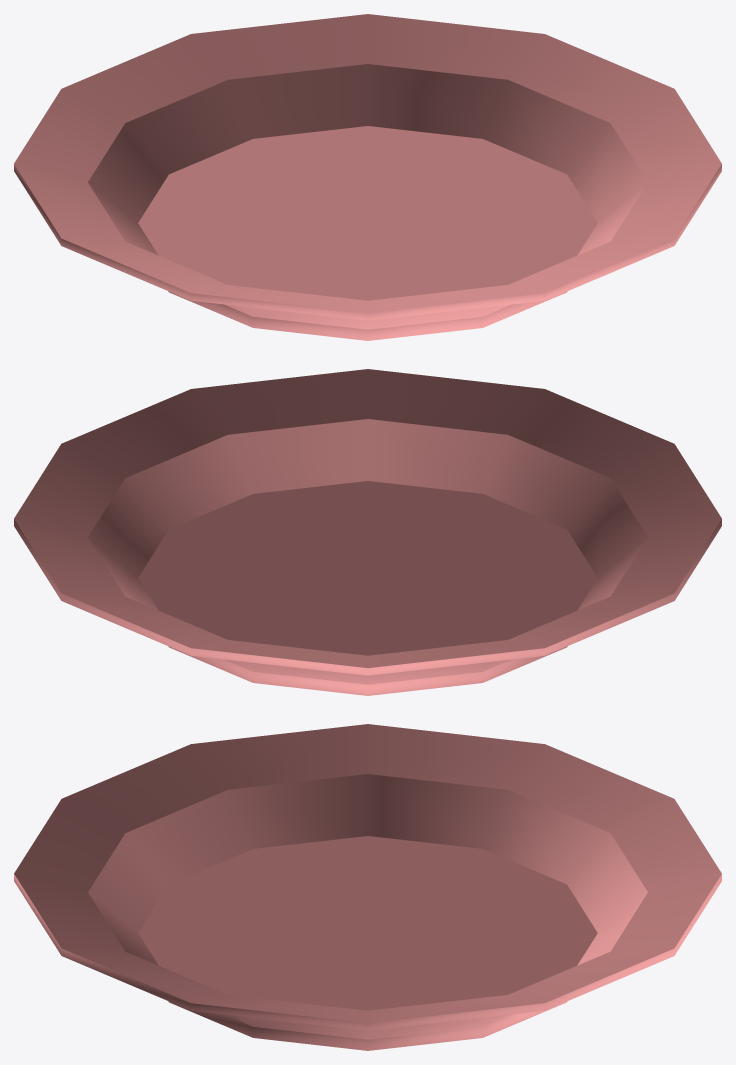
File: TFYK_soup_plate.FBX
3 views of the same model, one above another, from view 1: azimuth 30°, elevation 25°; view 2: azimuth 150°, elevation 25°; view 3: azimuth 270°, elevation 25° (orthographic).
Parts seen in each view (by area): view 1: TFYK_soup_plate; view 2: TFYK_soup_plate; view 3: TFYK_soup_plate.
Boxes of the visible parts, x1,y1,x2,y2 form: TFYK_soup_plate: (14, 14, 721, 340); TFYK_soup_plate: (14, 369, 721, 695); TFYK_soup_plate: (14, 724, 721, 1050).
Bounding box in the file's own units: 0.1608 × 0.0201 × 0.1608.
